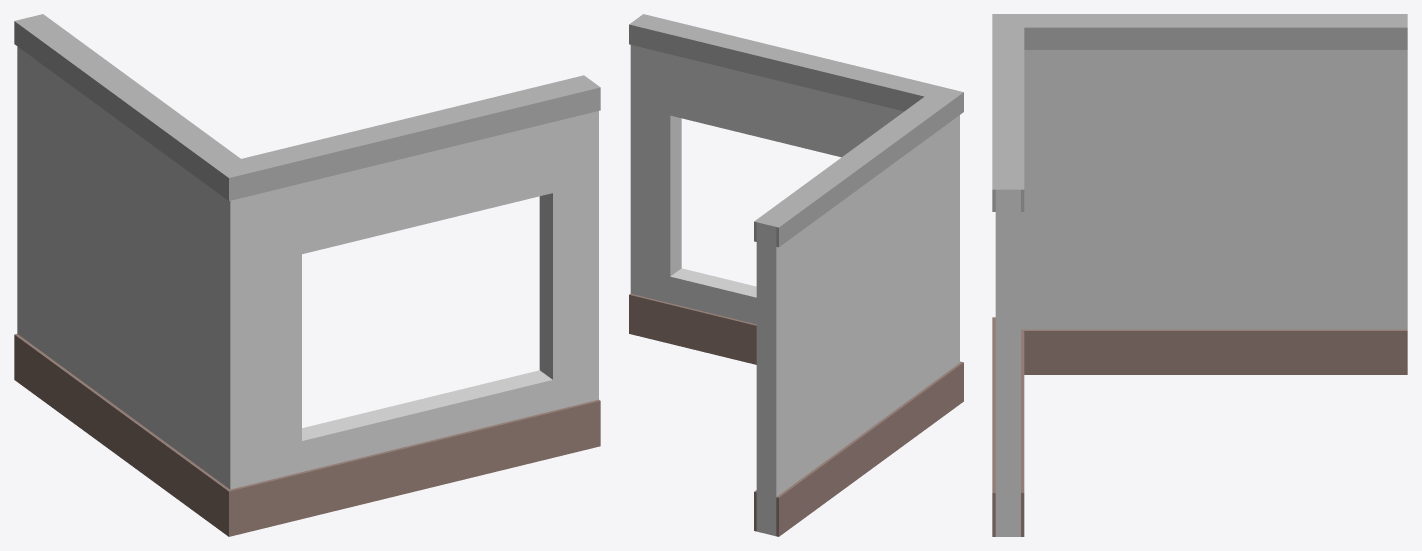
Rendered from Wall05-01.fbx.
3 renders of one model, left to right at view 1: azimuth 30°, elevation 25°; view 2: azimuth 150°, elevation 25°; view 3: azimuth 270°, elevation 25°, orthographic. The views are drawn at different scales.
Parts seen in each view (by area): view 1: Wall05-01; view 2: Wall05-01; view 3: Wall05-01.
Part boxes in pixels (<box>): Wall05-01: <box>14,14,600,536</box>; Wall05-01: <box>629,14,963,536</box>; Wall05-01: <box>992,14,1407,536</box>.
Bounding box in the file's own units: 3.25 × 3.25 × 3.
